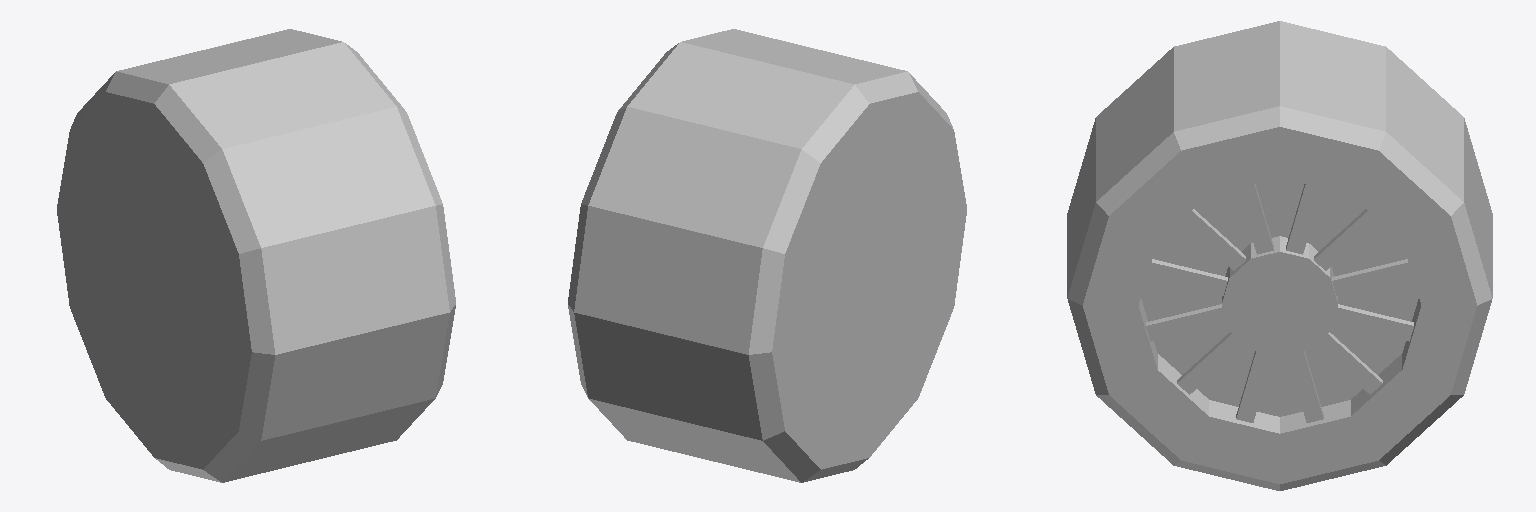
Rendered from left.obj.
The picture shows the model from 3 angles: view 1: azimuth 30°, elevation 25°; view 2: azimuth 150°, elevation 25°; view 3: azimuth 270°, elevation 25°; orthographic projection.
Parts seen in each view (by area): view 1: Wheels; view 2: Wheels; view 3: Wheels.
Boxes of the visible parts, x1=… form: Wheels: x1=57, y1=29, x2=455, y2=482; Wheels: x1=568, y1=29, x2=966, y2=482; Wheels: x1=1067, y1=21, x2=1492, y2=490.
Bounding box in the file's own units: 0.7818 × 1.42 × 1.42.